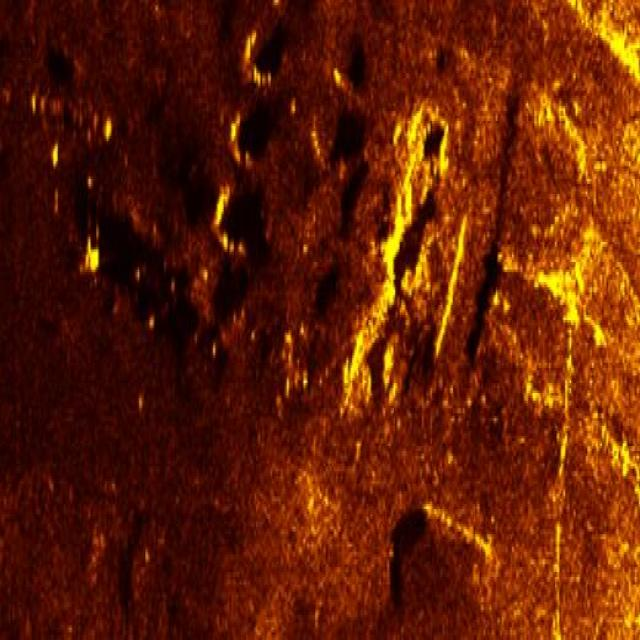other: (347, 96, 468, 433)
